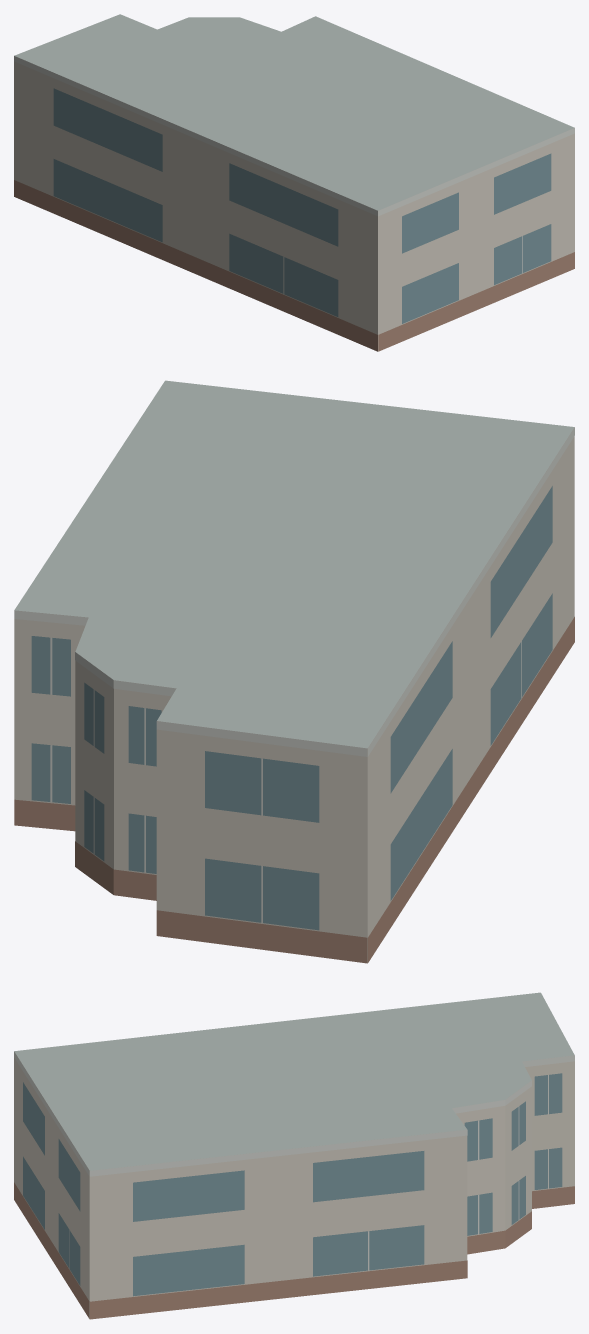
Rendered from survey-upis-32623670.glb.
The picture shows the model from 3 angles, top to bottom: view 1: azimuth 30°, elevation 25°; view 2: azimuth 150°, elevation 25°; view 3: azimuth 270°, elevation 25°; orthographic projection. The views are drawn at different scales.
Visible parts, largest first — view 1: survey-upis-32623670.tmp; view 2: survey-upis-32623670.tmp; view 3: survey-upis-32623670.tmp.
Part boxes in pixels (<box>): survey-upis-32623670.tmp: <box>14,14,574,351</box>; survey-upis-32623670.tmp: <box>14,380,574,963</box>; survey-upis-32623670.tmp: <box>14,992,574,1319</box>.
Size of the model in its own units: 15.72 by 6.1 by 20.87.
